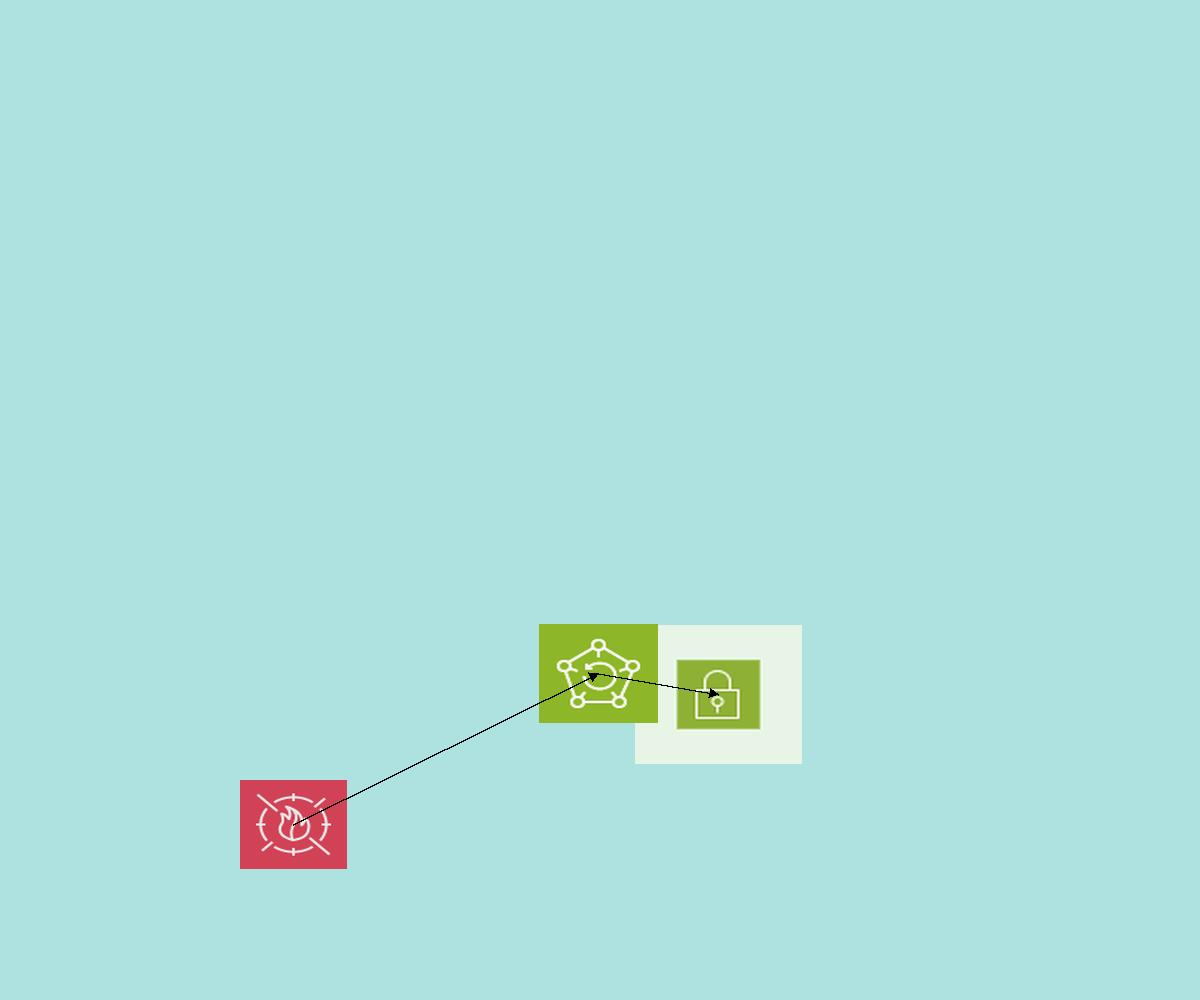AWS-Backup: (539, 624, 658, 723)
AWS-Public-subnet: (635, 625, 802, 764)
AWS-WAF: (240, 780, 347, 869)
